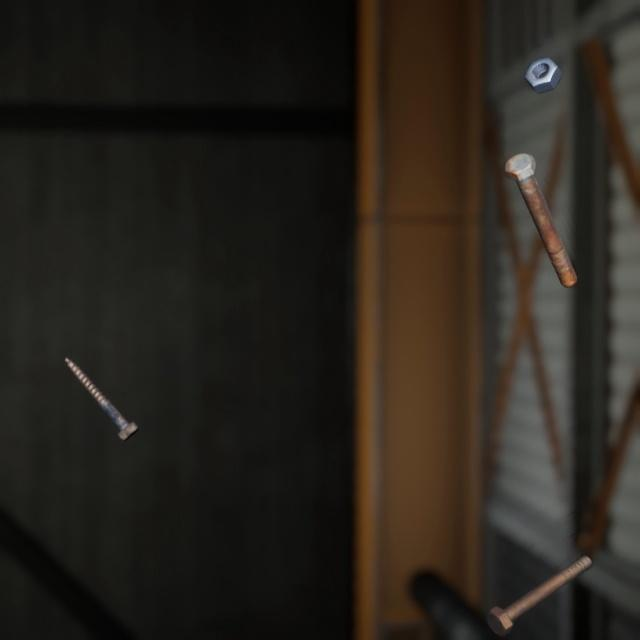bolt: (500, 133, 581, 277), (482, 528, 596, 617), (60, 334, 143, 426)
nut: (519, 41, 566, 87)
